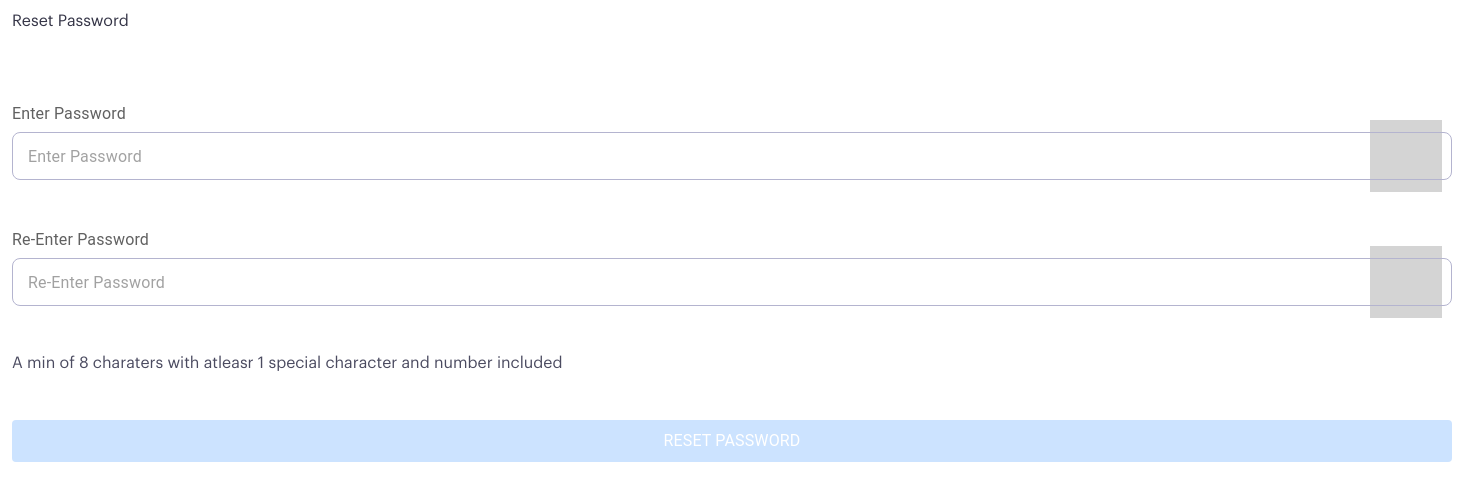
Test: ResetPasswordForm › validates password correctly
This screenshot has width=1464, height=502.
In the password field with placeholder "Enter Password": (683, 156) [12,132,1354,180], type "password"
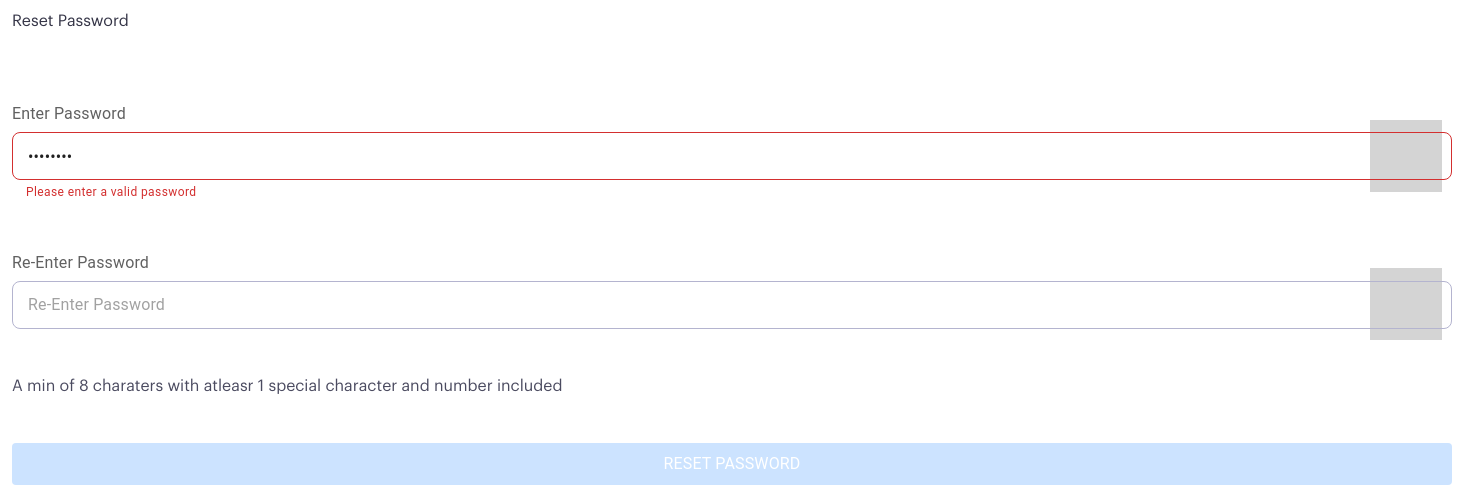
Check: the text "Please enter a valid password" is shown, box [26,185,196,199]
